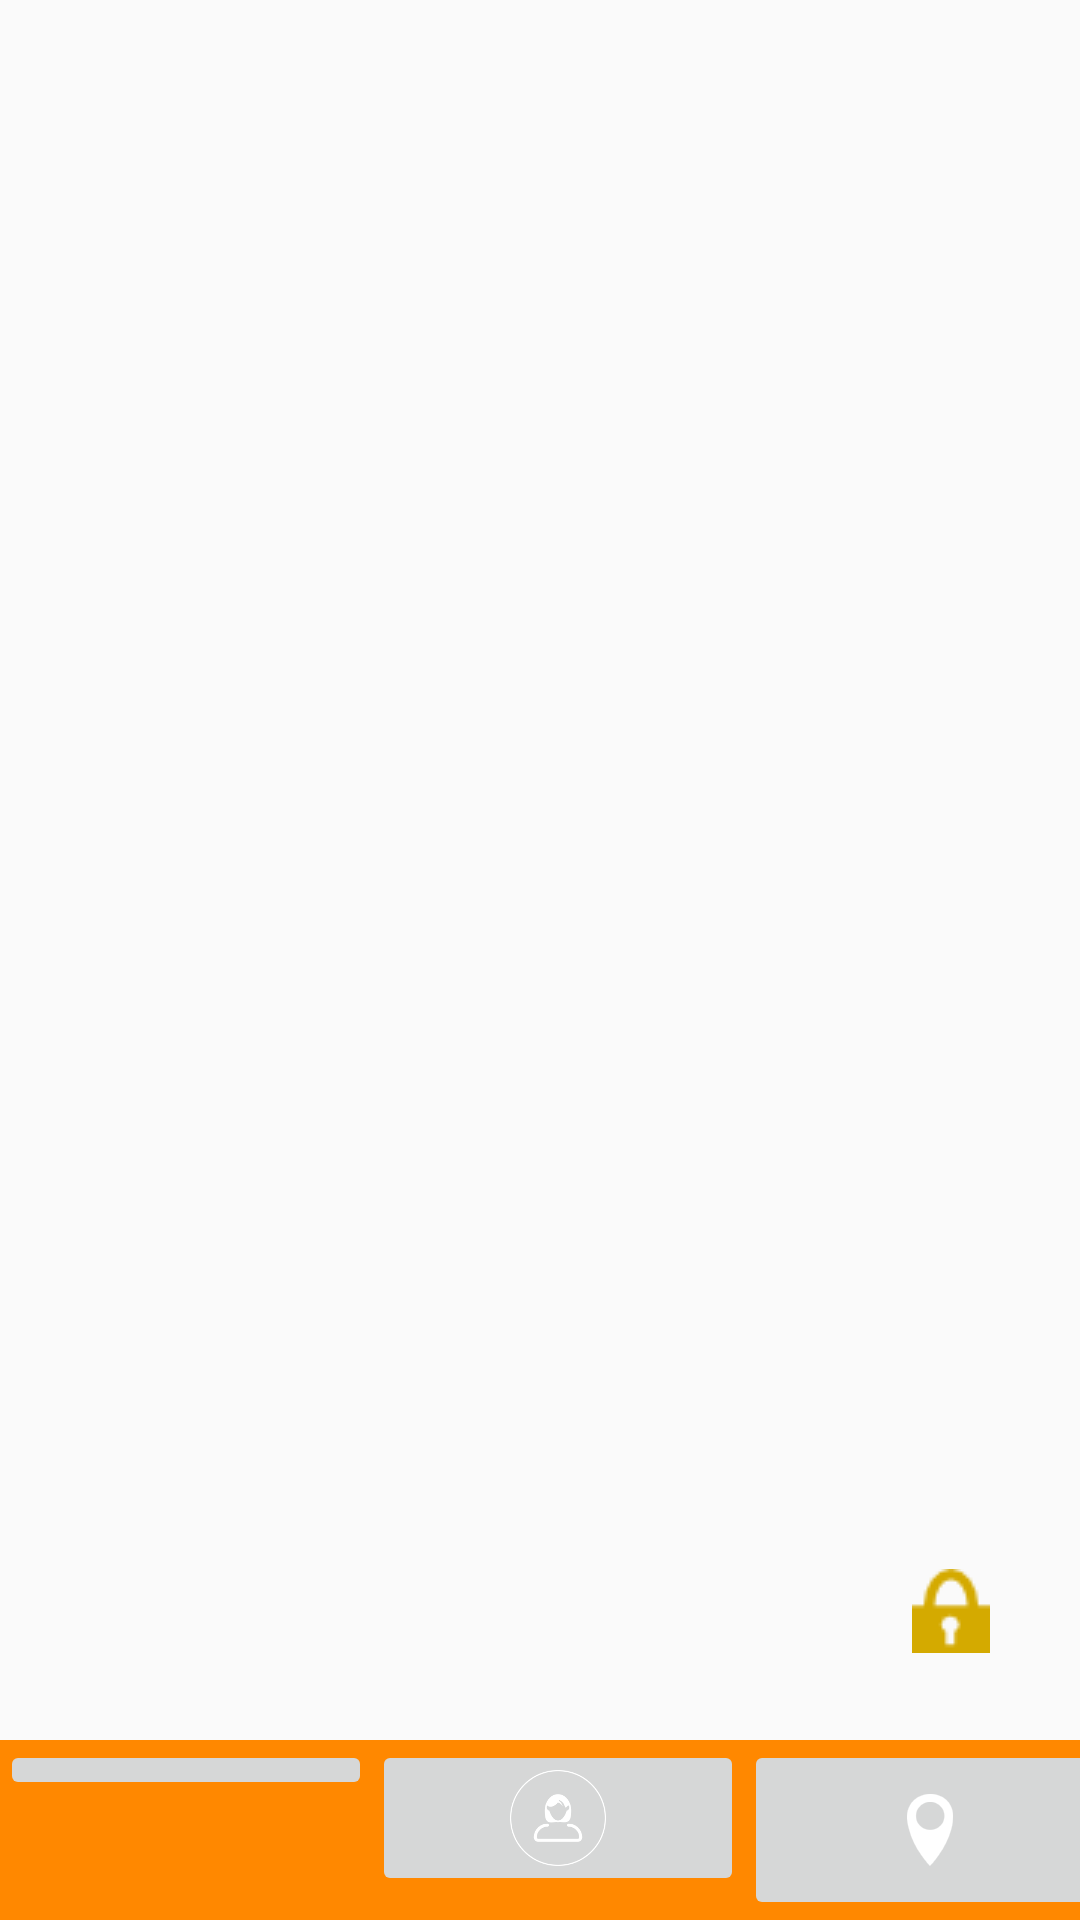

Point at icon controls on the screen. Image size 1080*1920, points as (x,y).
location: (912,1830)
user women: (558,1818)
